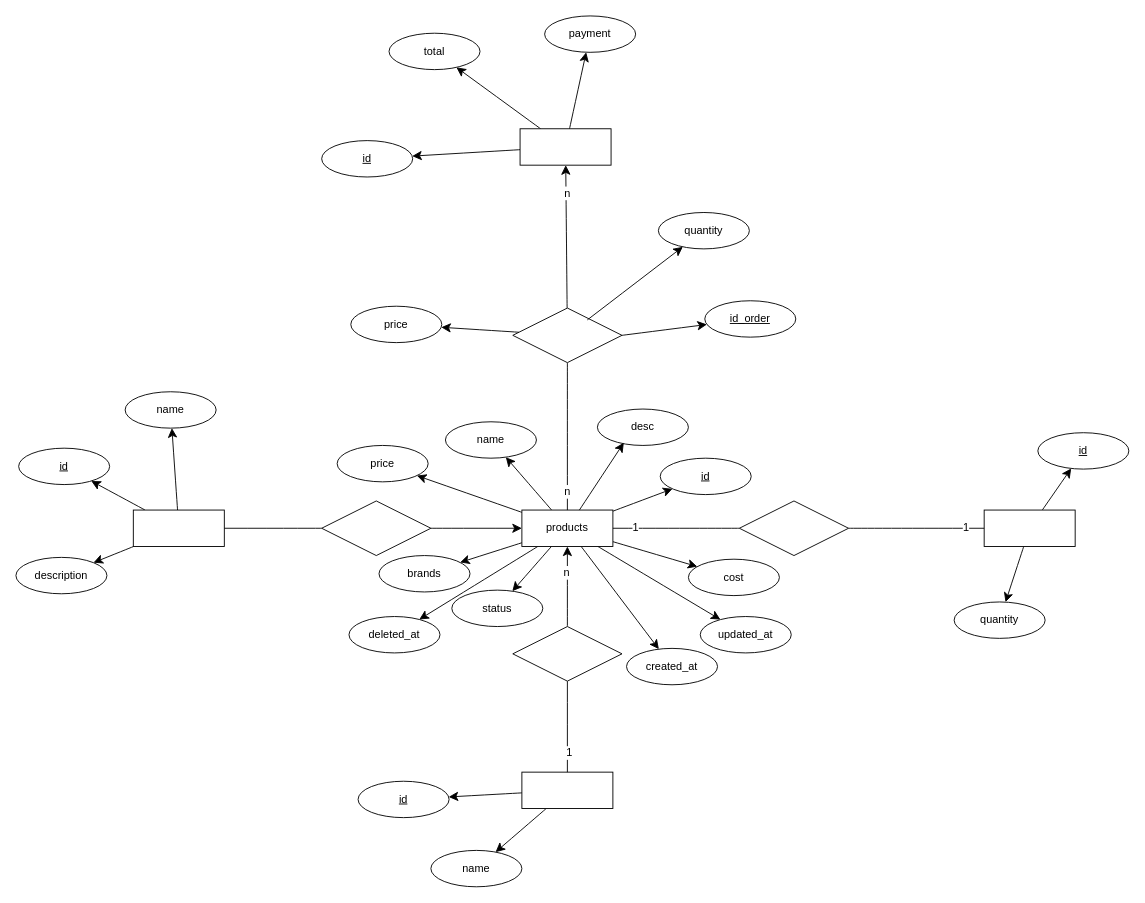
The diagram is 1145 pixels wide and 903 high, and some of its shapes have lost their labels. Each missing label, with the box of its shape:
categories: (132, 509, 224, 546)
enviar: (512, 626, 622, 681)
have: (321, 500, 431, 556)
order_details: (519, 128, 611, 165)
orders: (512, 307, 622, 363)
product_inventory: (983, 509, 1075, 546)
Relationship: (738, 500, 849, 556)
suppliers: (521, 771, 613, 809)
